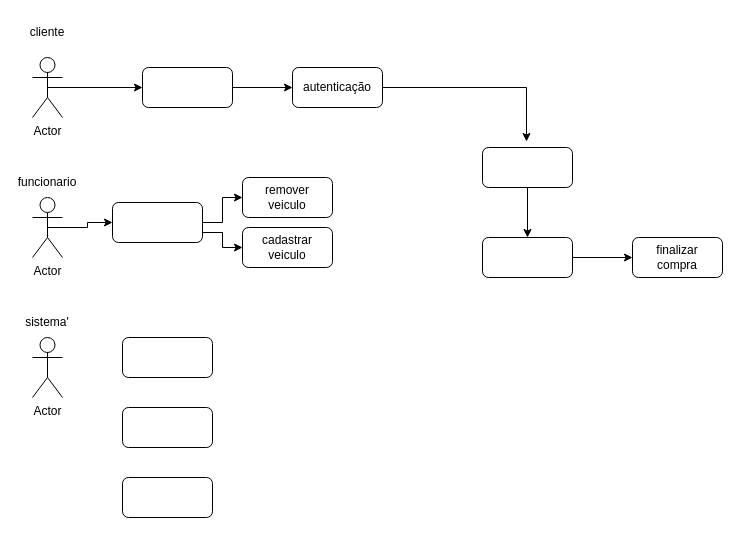
Image size: 740x535. Some labels were removed from this diagram. Each missing label, with the box of its shape:
Cadastro de cliente: (142, 66, 232, 108)
cadastro de funcionário: (112, 202, 202, 242)
detalhes do veiculo: (482, 236, 572, 278)
listagem de veiculo: (482, 146, 572, 188)
